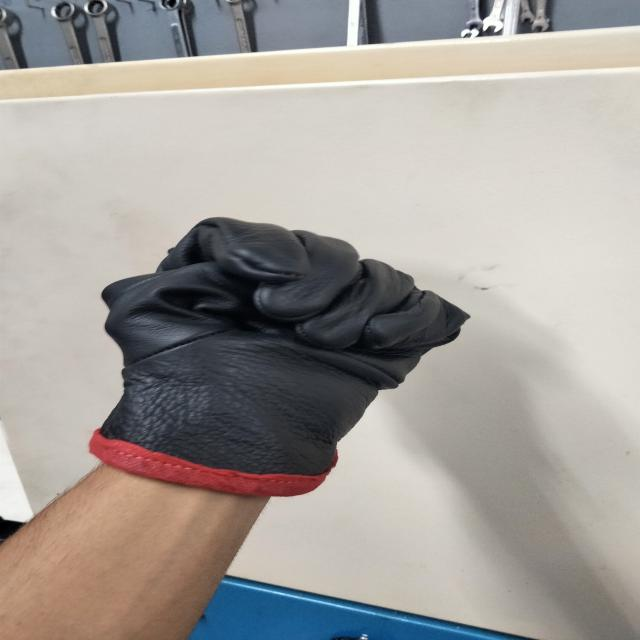Gloves: (69, 217, 468, 498)
